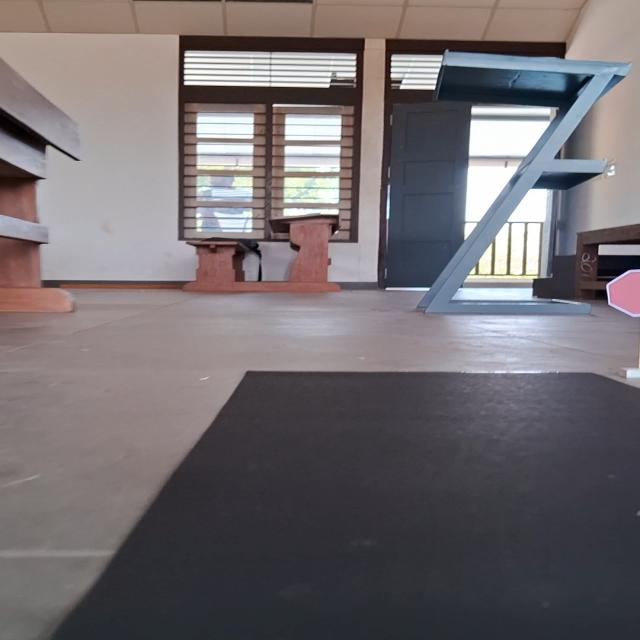Stop: (605, 267, 640, 320)
